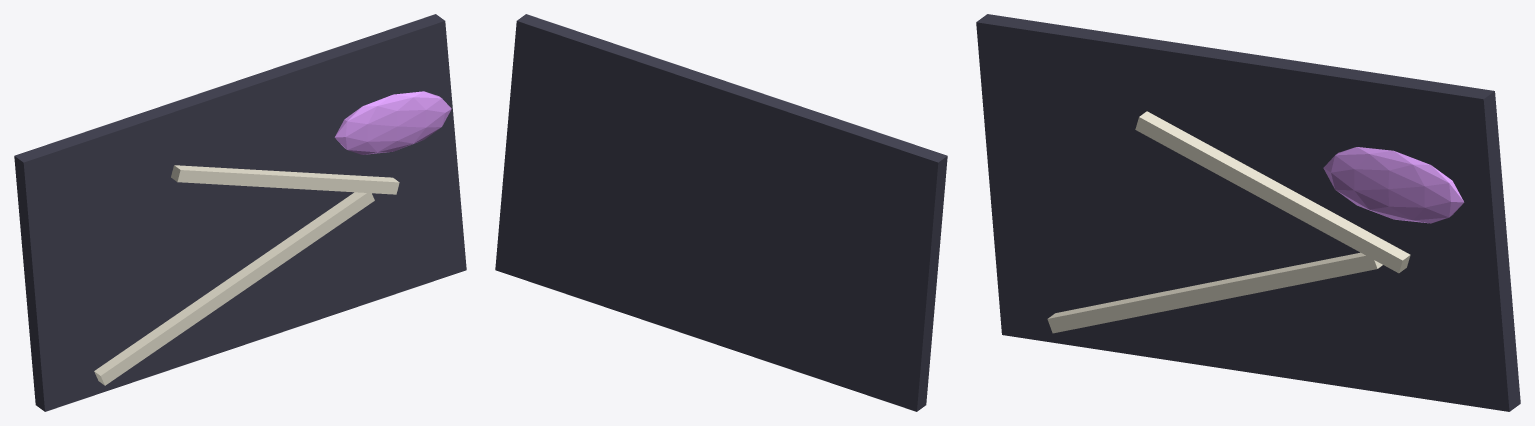
Rendered from 04_weathering_wear_overlay_4.glb.
3 views of the same model, side by side, from view 1: azimuth 30°, elevation 25°; view 2: azimuth 150°, elevation 25°; view 3: azimuth 330°, elevation 25° (orthographic). The views are drawn at different scales.
Visible parts, largest first — view 1: wear_plate, scratch_a, rust_or_moss_spot, scratch_b; view 2: wear_plate; view 3: wear_plate, rust_or_moss_spot, scratch_b, scratch_a.
Part boxes in pixels (bbox=[...]): wear_plate: bbox=[14, 14, 466, 411]; scratch_a: bbox=[94, 192, 374, 385]; rust_or_moss_spot: bbox=[334, 91, 451, 154]; scratch_b: bbox=[171, 165, 399, 194]; wear_plate: bbox=[495, 14, 947, 411]; wear_plate: bbox=[976, 14, 1520, 411]; rust_or_moss_spot: bbox=[1323, 147, 1464, 223]; scratch_b: bbox=[1135, 111, 1410, 273]; scratch_a: bbox=[1047, 252, 1382, 333].
Bounding box in the file's own units: 1.36 × 0.8613 × 0.134.
